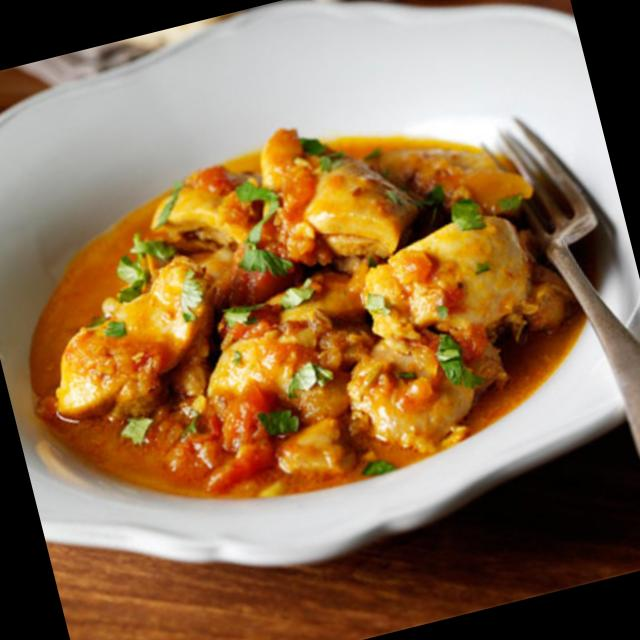chicken: (0, 91, 621, 528)
